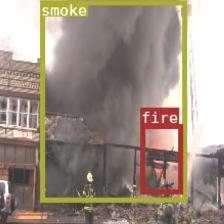fire: (140, 123, 181, 193)
smoke: (40, 0, 186, 202)
